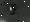person: (12, 5, 19, 16)
